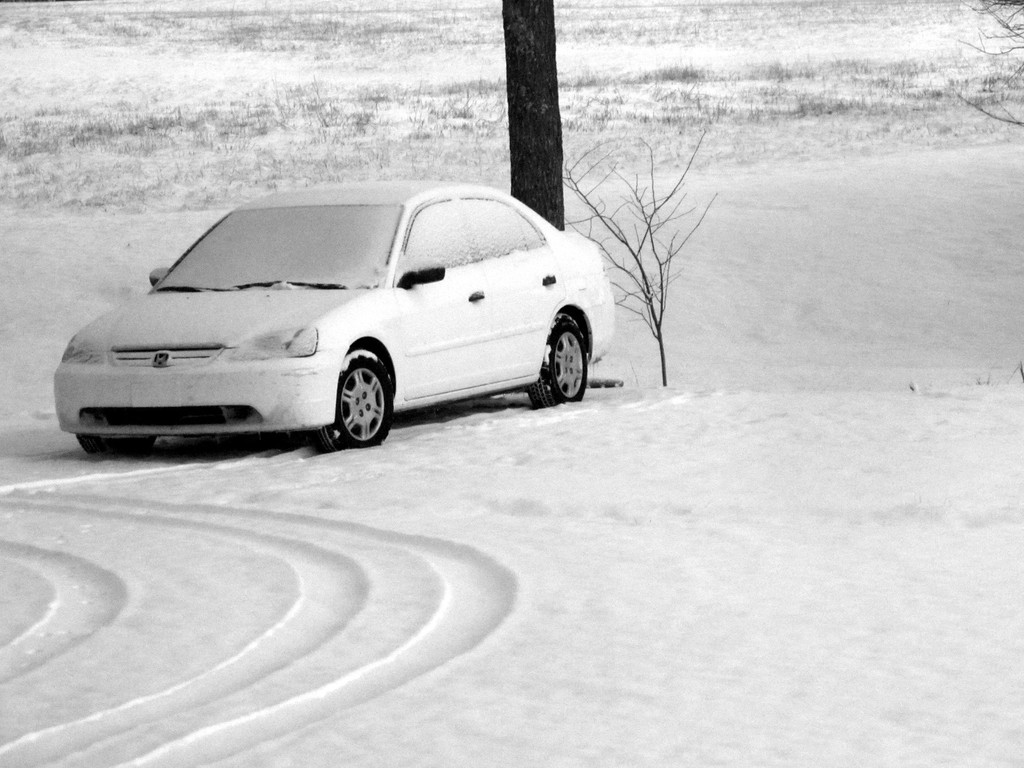Car: (54, 182, 610, 448)
